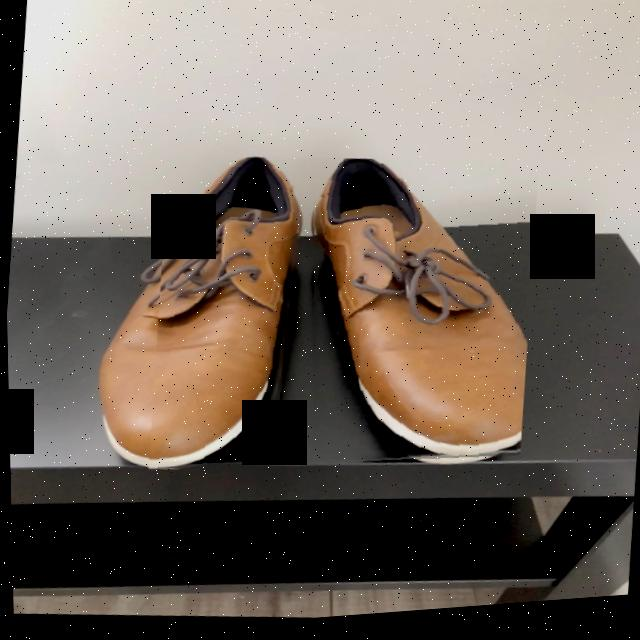shoe: (312, 164, 525, 466), (146, 161, 300, 470)
